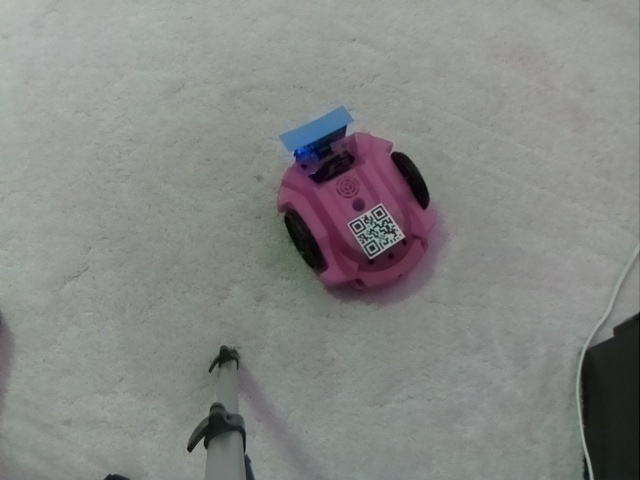chassis: (276, 104, 439, 301)
qr: (343, 201, 407, 260)
